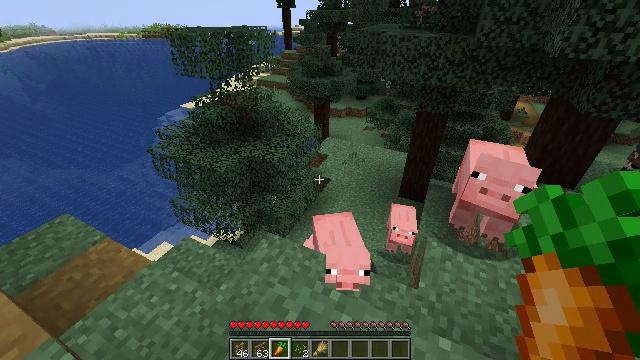pig: (452, 139, 539, 247), (313, 211, 370, 292), (386, 202, 417, 251)
